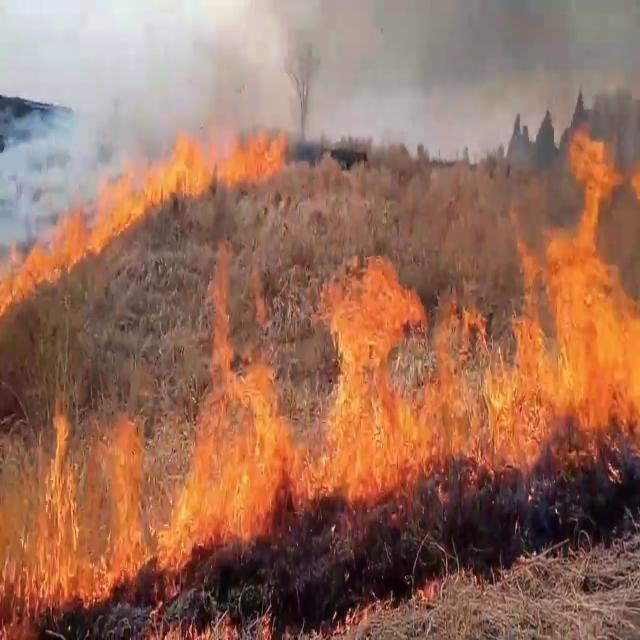Fire: (170, 242, 536, 578), (2, 362, 210, 614), (505, 122, 640, 497), (102, 117, 288, 216), (0, 190, 100, 311)
